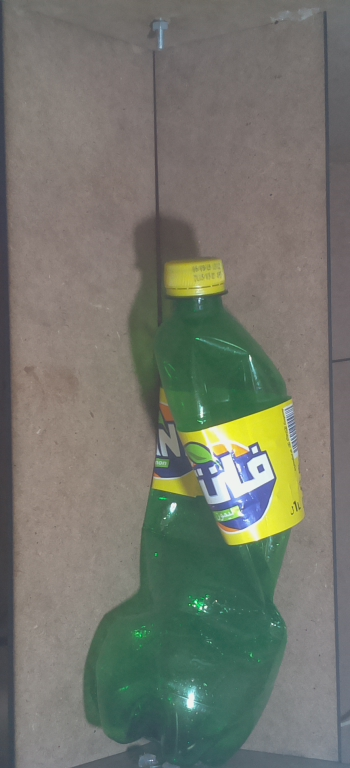Bouteille_1L: (87, 248, 306, 768)
